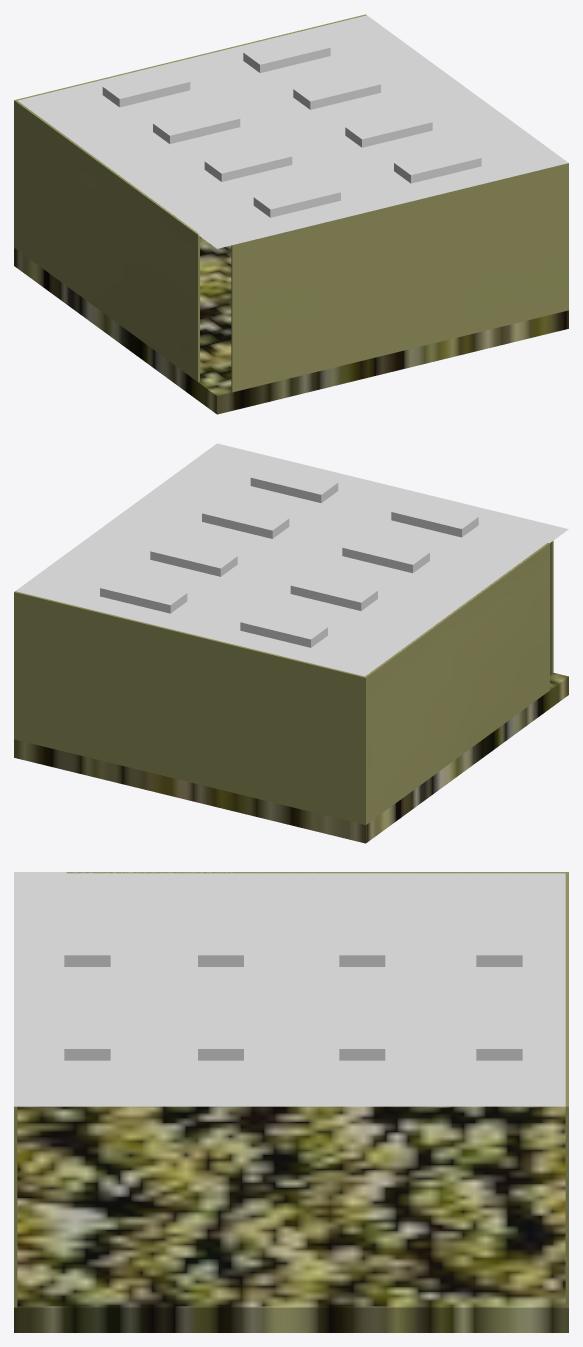
The model's file is BackroomsLevelZero - 7.fbx.
3 renders of one model, top to bottom at view 1: azimuth 30°, elevation 25°; view 2: azimuth 150°, elevation 25°; view 3: azimuth 270°, elevation 25°, orthographic. The views are drawn at different scales.
Parts seen in each view (by area): view 1: Floor.023, Wall.025, Wall.026, Floor.010, Cube.133, Cube.131, Cube.134, Cube.137, Cube.132, Cube.138, Cube.135, Cube.136 (+1 smaller); view 2: Floor.023, Wall.027, Wall.026, Floor.010, Cube.138, Cube.134, Cube.133, Cube.135, Cube.137, Cube.132, Cube.131, Cube.136 (+1 smaller); view 3: Floor.010, Floor.023, Cube.131, Cube.132, Cube.134, Cube.135, Cube.137, Cube.138, Cube.133, Cube.136, Wall.027, Wall.026 (+1 smaller).
Part boxes in pixels (x1,y1,x2,y2): Floor.023: (17,15,568,248); Wall.025: (231,163,568,392); Wall.026: (15,100,199,381); Floor.010: (14,236,568,414); Cube.133: (204,144,292,181); Cube.131: (102,69,190,107); Cube.134: (243,35,330,72); Cube.137: (253,180,340,217); Cube.132: (153,106,240,143); Cube.138: (394,145,481,183); Cube.135: (293,72,380,109); Cube.136: (345,110,432,147); Floor.023: (15,443,568,676); Wall.027: (14,591,366,824); Wall.026: (363,543,549,824); Floor.010: (14,673,568,843); Cube.138: (250,465,338,503); Cube.134: (100,576,187,613); Cube.133: (342,535,429,573); Cube.135: (150,539,237,576); Cube.137: (391,499,478,537); Cube.132: (290,573,377,610); Cube.131: (240,610,327,647); Cube.136: (202,501,289,538); Floor.010: (14,1106,568,1332); Floor.023: (14,872,565,1106); Cube.131: (476,908,522,966); Cube.132: (339,908,385,966); Cube.134: (476,1002,522,1060); Cube.135: (339,1002,385,1060); Cube.137: (64,908,110,966); Cube.138: (64,1002,110,1060); Cube.133: (198,908,243,966); Cube.136: (198,1002,243,1060); Wall.027: (565,872,568,1307); Wall.026: (66,872,565,873).
Bounding box in the file's own units: 2000 × 946 × 2000.
